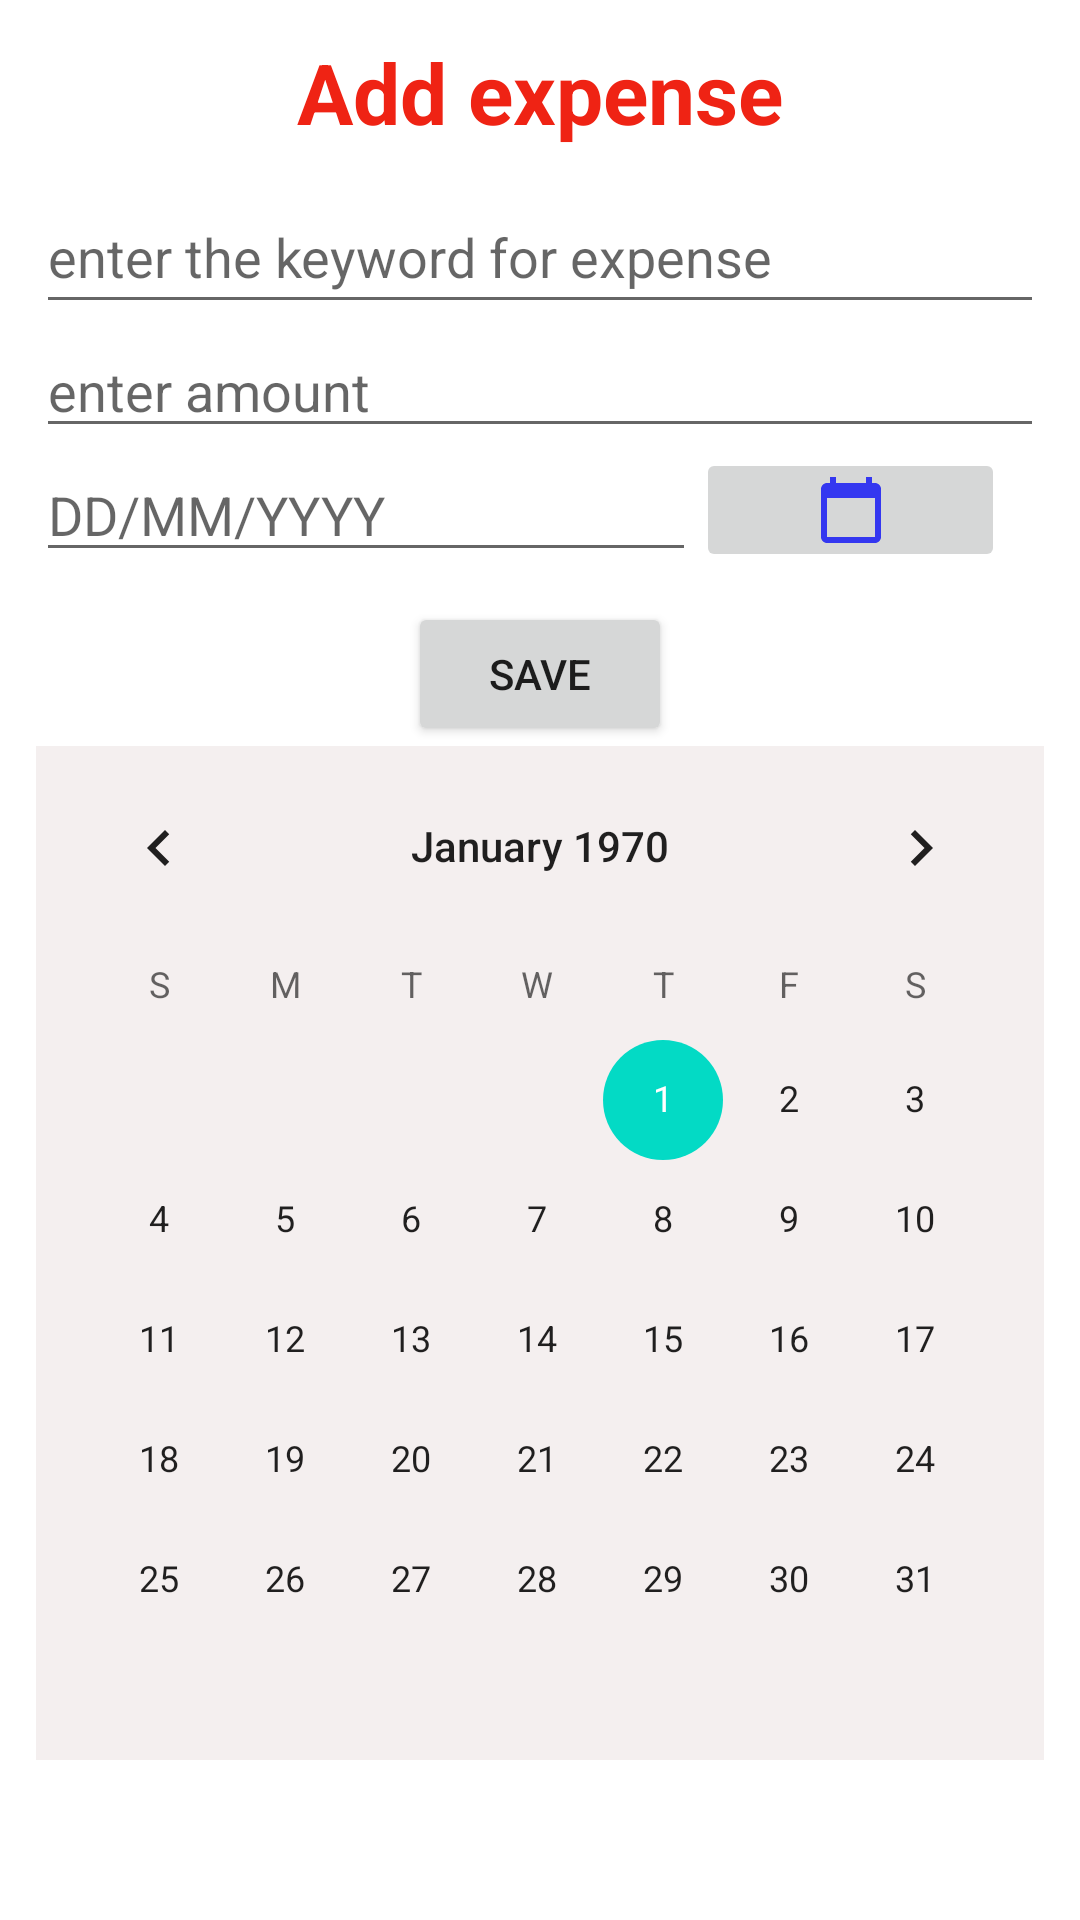

Where to tap for icons on this 1080x1920 app screen, as point (x, y):
calender: point (850, 510)
